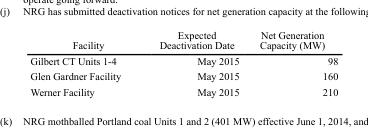table: (29, 28, 337, 97)
table column: (29, 28, 139, 97), (139, 28, 248, 97), (248, 28, 337, 97)
table column header: (29, 28, 337, 52)
table row: (29, 28, 337, 52), (29, 52, 337, 68), (29, 68, 337, 83), (29, 83, 337, 97)
